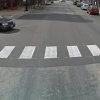Crosswalk: (3, 37, 100, 77)
